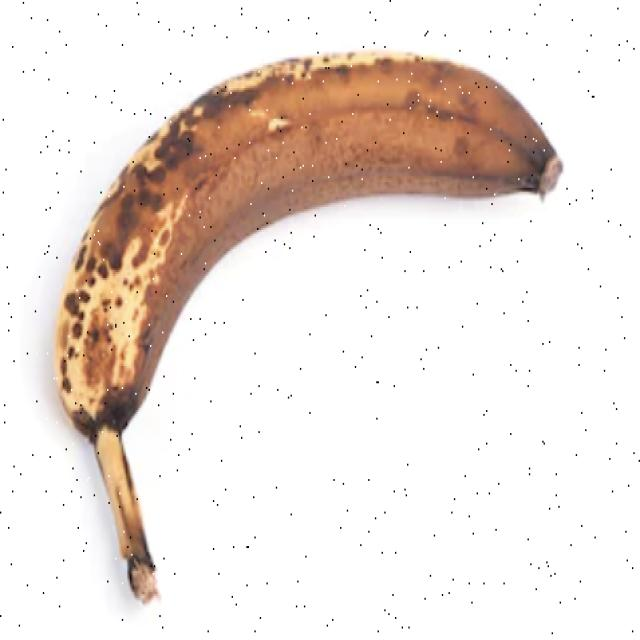overripe: (51, 40, 572, 608)
